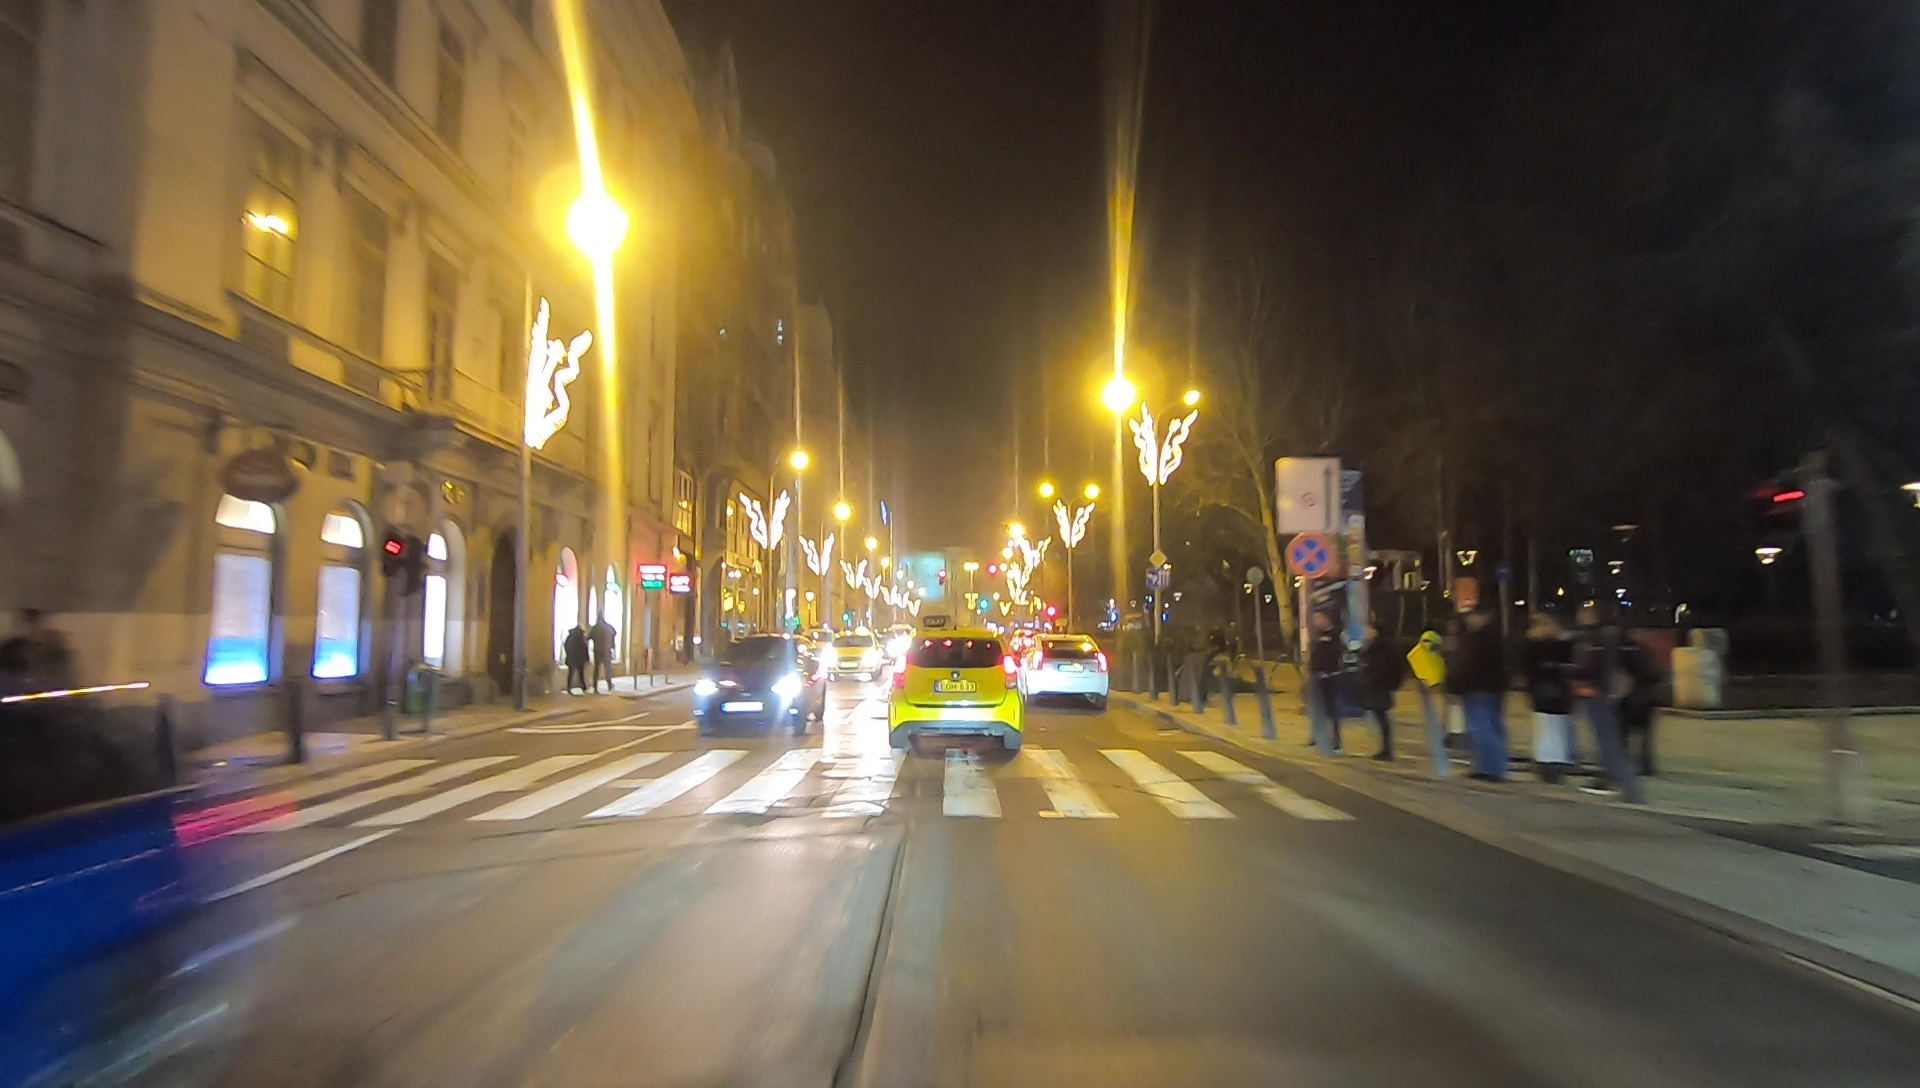person: (1584, 602, 1654, 806), (1521, 610, 1578, 786), (1452, 611, 1506, 782), (1306, 604, 1351, 758), (1356, 613, 1402, 758), (588, 610, 615, 691), (560, 619, 588, 695)
